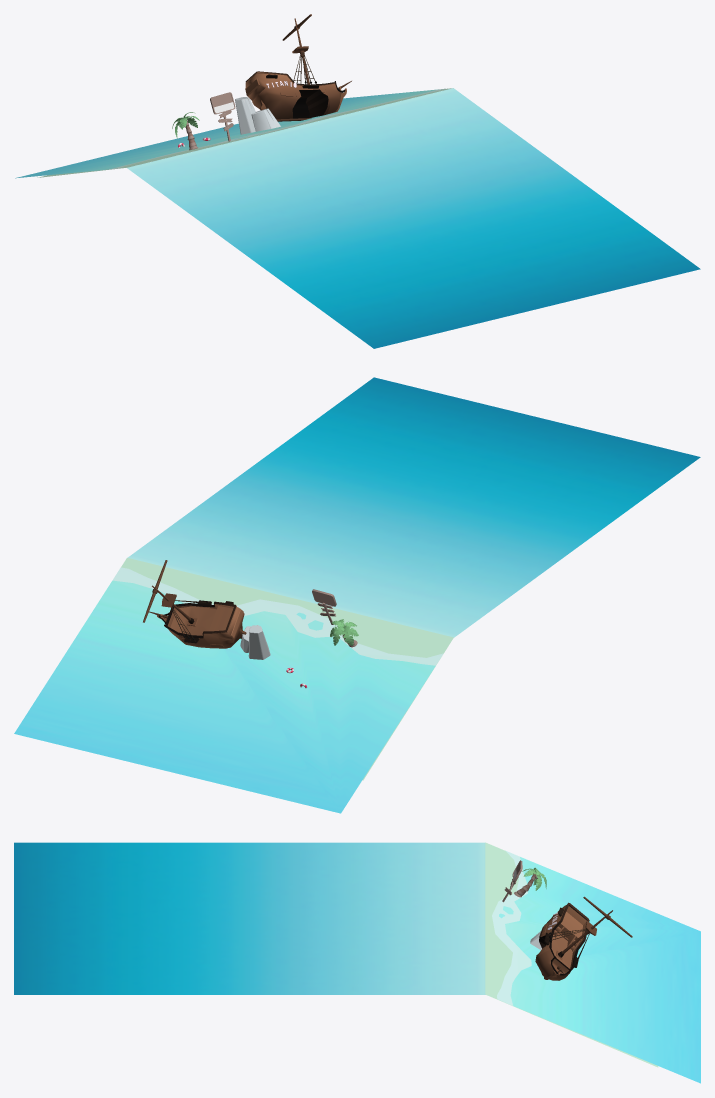
File: 04_Envi.fbx
3 renders of one model, top to bottom at view 1: azimuth 30°, elevation 25°; view 2: azimuth 150°, elevation 25°; view 3: azimuth 270°, elevation 25°, orthographic. The views are drawn at different scales.
Parts seen in each view (by area): view 1: Object.001, polySurface22, 03_Plane.014, Island_5, 03_Plane.013, tambien.002; view 2: Object.001, 03_Plane.014, 03_Plane.013, polySurface22, Island_5; view 3: Object.001, 03_Plane.014, 03_Plane.013, polySurface22, Island_7.
Part boxes in pixels (<box>): Object.001: <box>127,88,700,348</box>; polySurface22: <box>245,14,351,121</box>; 03_Plane.014: <box>15,88,445,178</box>; Island_5: <box>235,97,280,134</box>; 03_Plane.013: <box>37,88,451,177</box>; tambien.002: <box>210,92,235,141</box>; Object.001: <box>127,377,700,637</box>; 03_Plane.014: <box>14,567,443,813</box>; 03_Plane.013: <box>121,558,453,780</box>; polySurface22: <box>143,560,246,648</box>; Island_5: <box>240,625,270,659</box>; Object.001: <box>14,842,485,994</box>; 03_Plane.014: <box>492,850,700,1083</box>; 03_Plane.013: <box>485,842,658,1067</box>; polySurface22: <box>535,896,632,980</box>; Island_7: <box>514,867,546,897</box>.
Size of the model in its own units: 4000 by 1771 by 7629.
